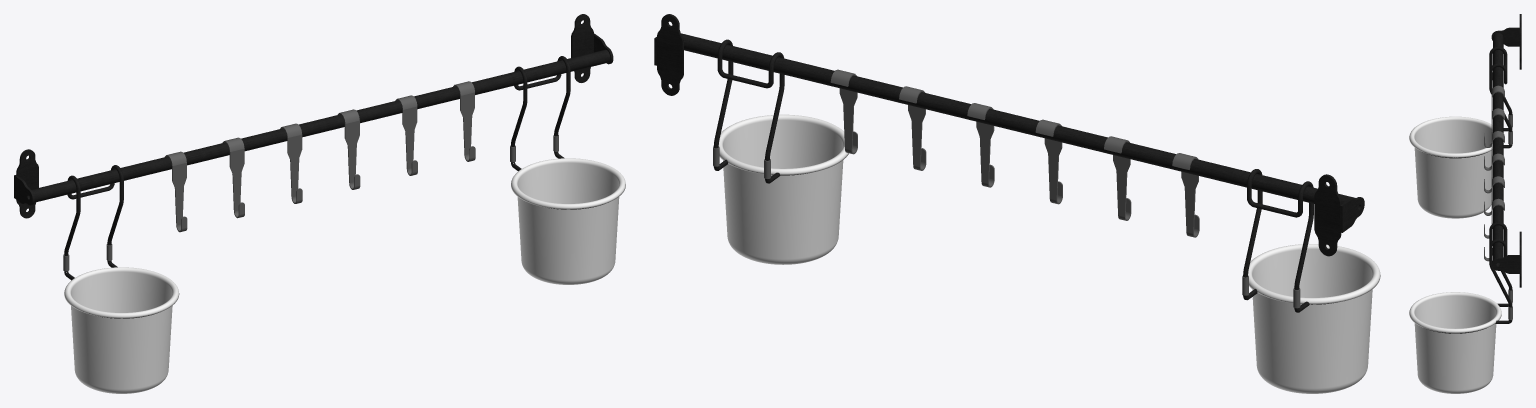
File: 092 - stand divari jadid meshki goldan sefid.glb
3 views of the same model, side by side, from view 1: azimuth 30°, elevation 25°; view 2: azimuth 150°, elevation 25°; view 3: azimuth 270°, elevation 25° (orthographic). The views are drawn at different scales.
Parts seen in each view (by area): view 1: Group#30 [115962], Group#8 [115974], Group#11 [114355], Group#3 [142997] (×5), [56042] (×2), [2653], Group#2 [142996], [3536]; view 2: Group#8 [115974], Group#30 [115962], Group#11 [114355], Group#3 [142997] (×5), [56042] (×2), [2653], [3536], Group#2 [142996]; view 3: Group#8 [115974], Group#30 [115962], Group#11 [114355], [56042] (×2), Group#3 [142997] (×5), Group#6 [3189], Group#1 [4072], Group#2 [142996], [3536].
Boxes of the visible parts, x1,y1,x2,y2 form: Group#30 [115962]: (64, 267, 179, 393); Group#8 [115974]: (511, 158, 625, 284); Group#11 [114355]: (31, 49, 610, 202); Group#3 [142997] (×5): (165, 81, 475, 232); [56042] (×2): (64, 56, 602, 318); [2653]: (571, 14, 593, 82); Group#2 [142996]: (280, 123, 302, 203); [3536]: (16, 149, 38, 218); Group#8 [115974]: (718, 114, 848, 264); Group#30 [115962]: (1248, 244, 1380, 393); Group#11 [114355]: (681, 33, 1355, 204); Group#3 [142997] (×5): (830, 69, 1199, 237); [56042] (×2): (713, 39, 1333, 312); [2653]: (657, 14, 683, 95); [3536]: (1314, 174, 1341, 256); Group#2 [142996]: (1035, 119, 1062, 204); Group#8 [115974]: (1409, 292, 1501, 393); Group#30 [115962]: (1409, 116, 1492, 218); Group#11 [114355]: (1493, 33, 1503, 265); [56042] (×2): (1424, 46, 1512, 333); Group#3 [142997] (×5): (1484, 85, 1504, 261); Group#6 [3189]: (1491, 255, 1521, 273); Group#1 [4072]: (1491, 27, 1519, 46); Group#2 [142996]: (1484, 131, 1504, 193); [3536]: (1519, 14, 1521, 69).
Size of the model in its own units: 0.806 by 0.2792 by 0.168.
Materials: 4 (2 with a texture image).
